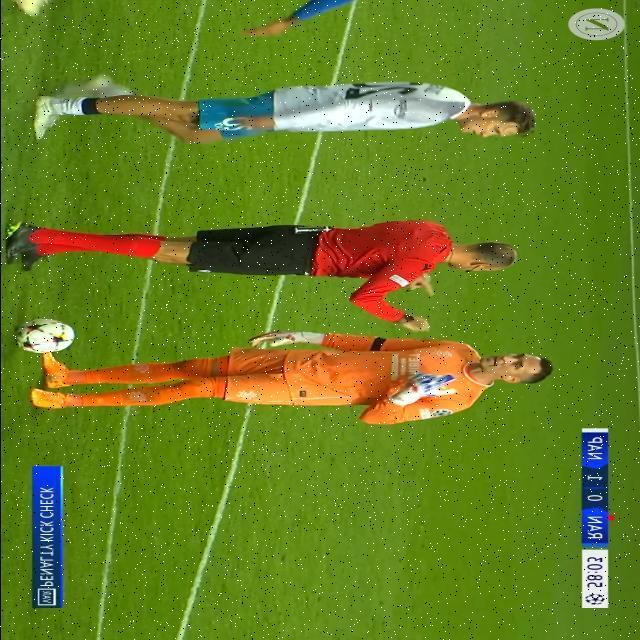ball: (0, 304, 64, 370)
goalkeeper: (26, 351, 580, 429)
player: (18, 67, 561, 155)
referee: (0, 205, 524, 301)
